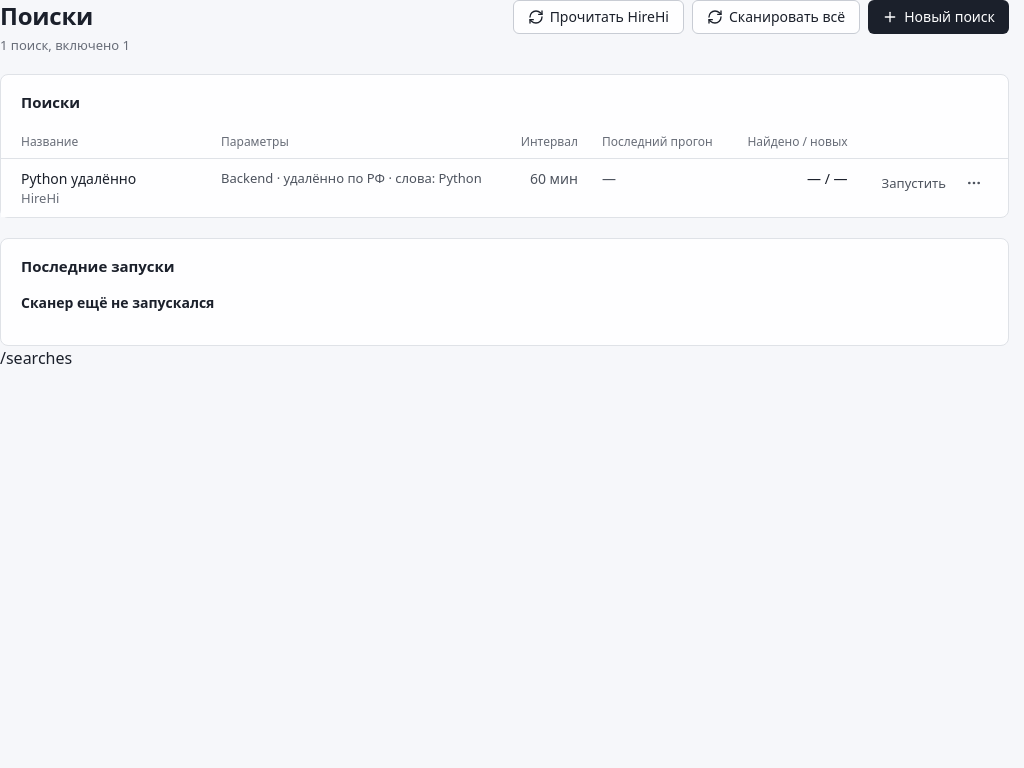
Test: SearchesPage, HireHi › opens a saved HireHi search with its filters
Click the button "Python удалённо".
click(79, 178)  # box [21, 168, 136, 188]
(page scrolled)
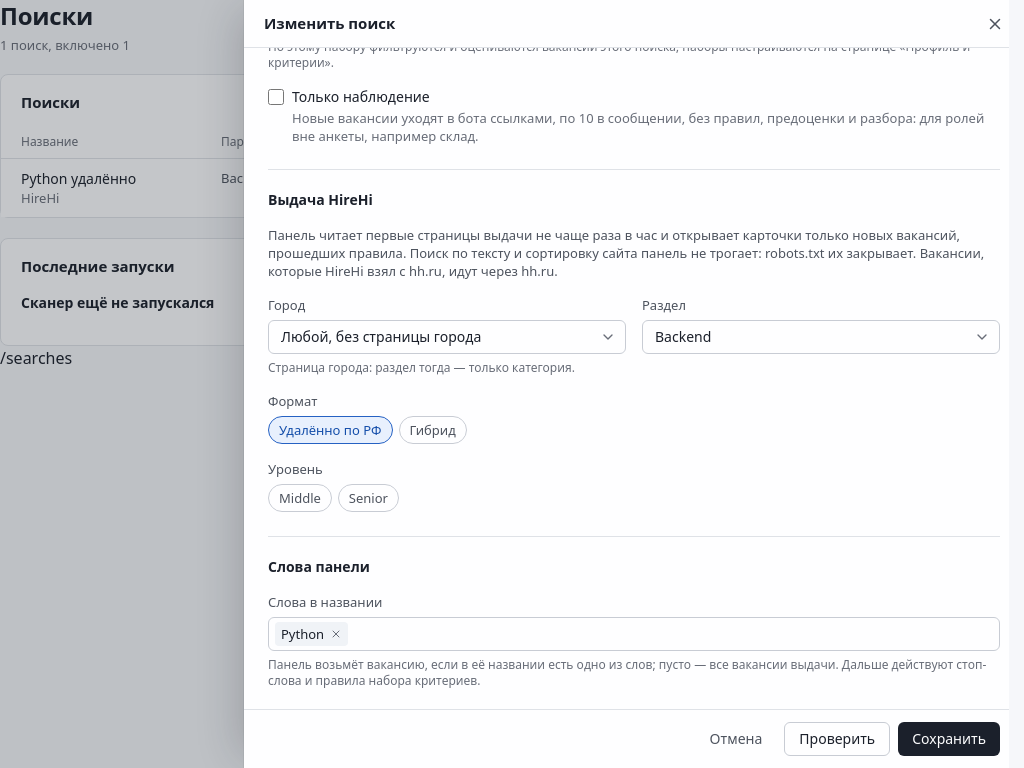
expect the dropdown labelled "Раздел" shows "Backend": met, box [642, 320, 1000, 354]
expect the button named "Удалить Python" is shown: met, box [326, 624, 346, 644]
